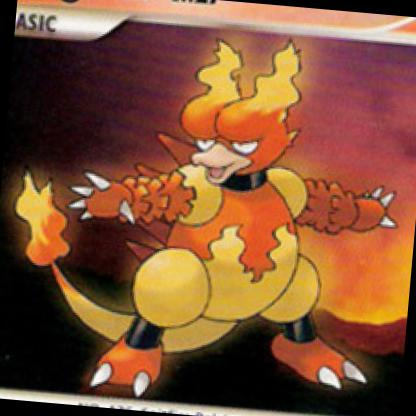Magmar: (1, 61, 416, 416)
